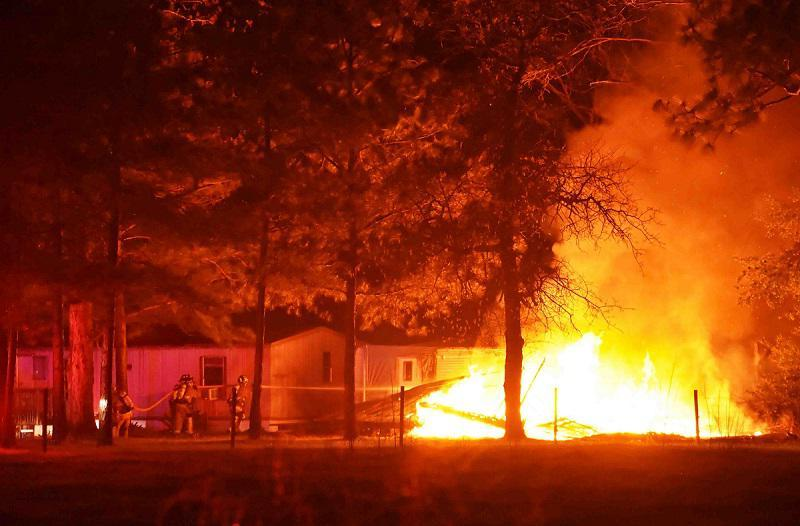Fire: (408, 351, 758, 445)
